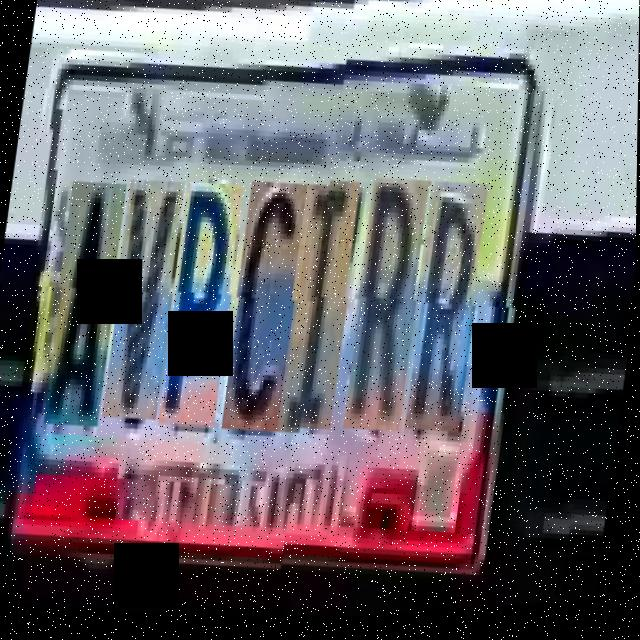A: (44, 179, 130, 430)
C: (222, 181, 313, 439)
I: (280, 186, 363, 442)
P: (159, 182, 249, 434)
R: (344, 185, 435, 447), (405, 190, 492, 445)
V: (103, 179, 188, 424)
